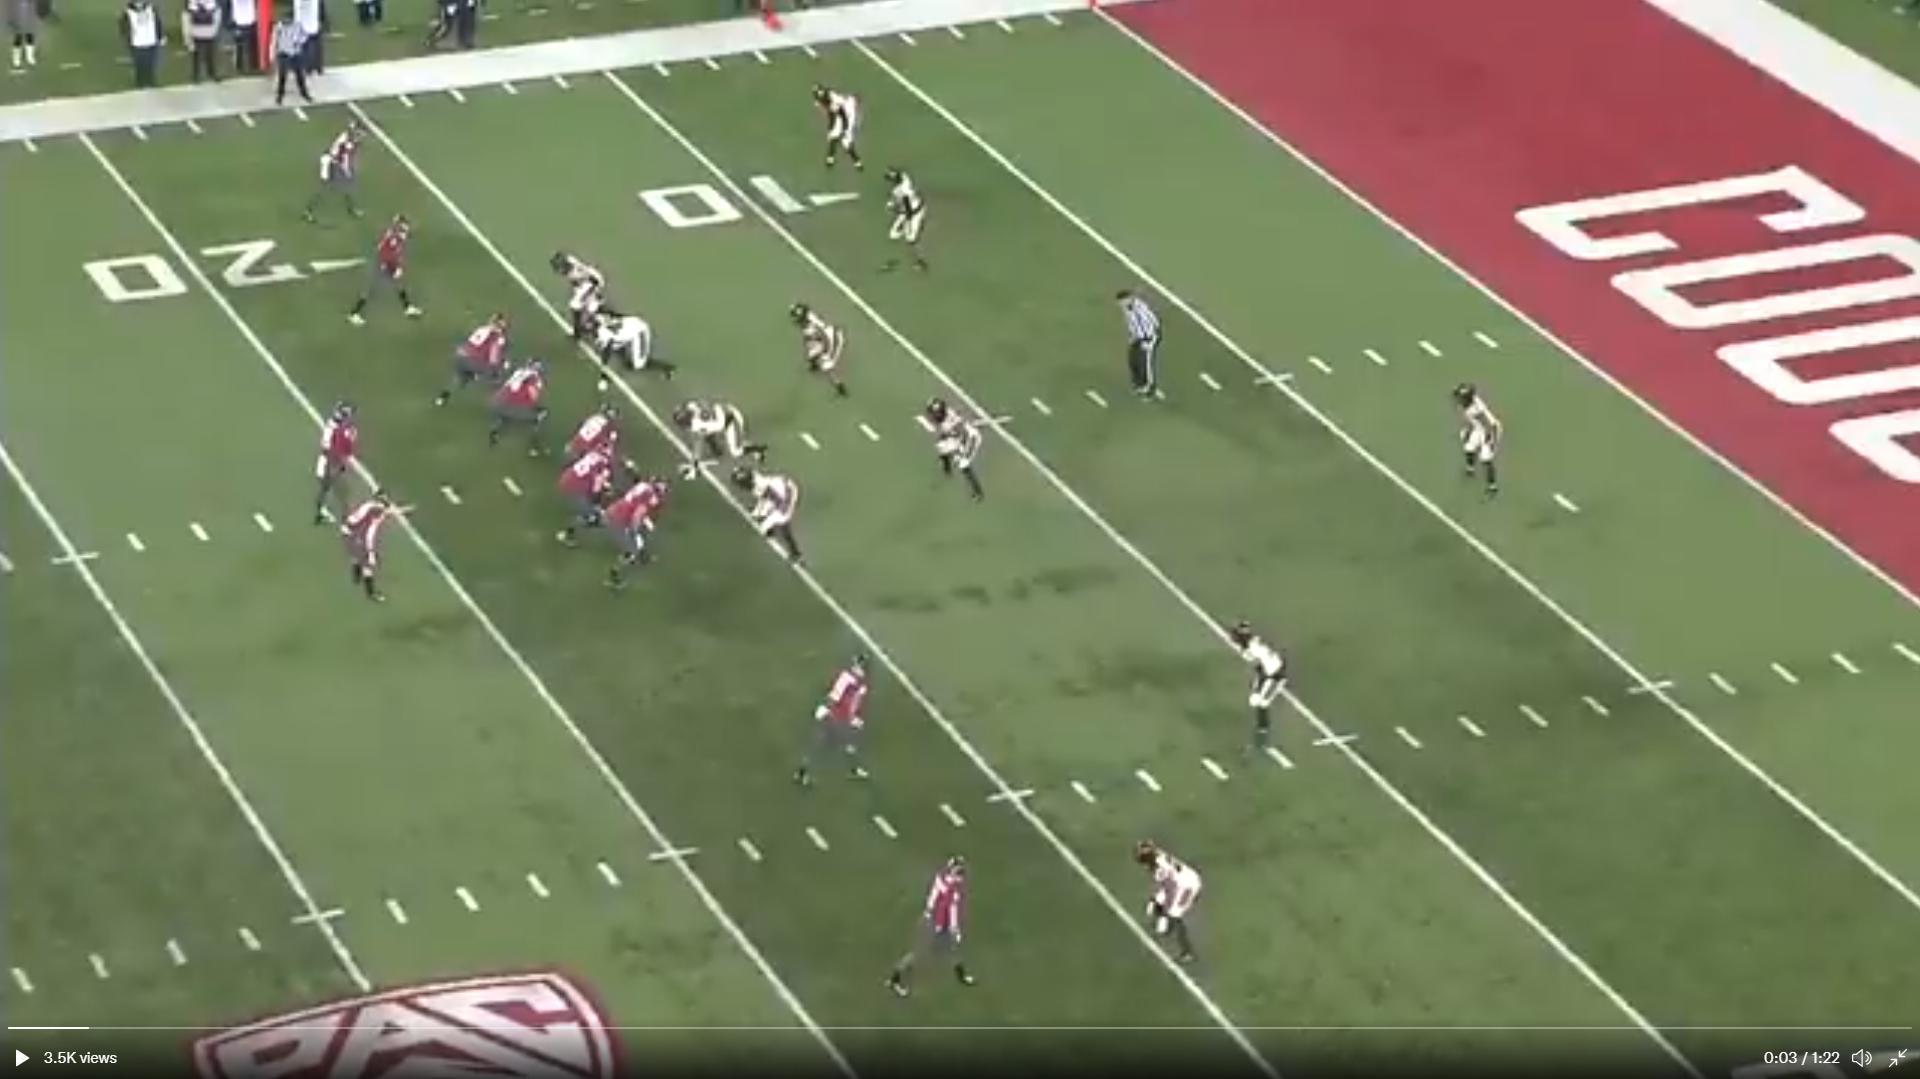center: (567, 403, 636, 468)
db: (1145, 843, 1198, 942), (1247, 629, 1293, 726), (1466, 386, 1511, 485), (823, 86, 867, 164), (319, 126, 360, 186), (898, 174, 929, 249)
lb: (804, 307, 856, 394), (925, 400, 972, 474)
qb: (319, 405, 362, 491)
skill: (911, 862, 971, 996), (820, 655, 871, 771), (368, 212, 414, 315), (350, 491, 391, 576)
